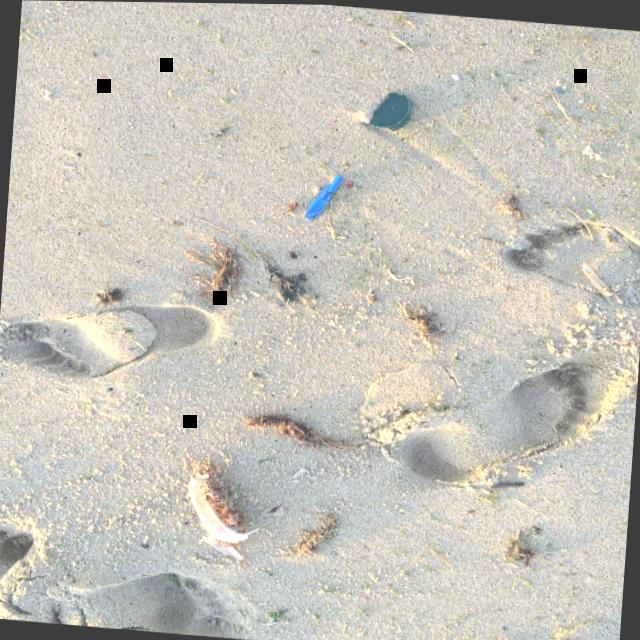Other plastic bottle: (187, 471, 260, 559), (303, 173, 343, 219)
Plastic lid: (367, 91, 411, 129)
